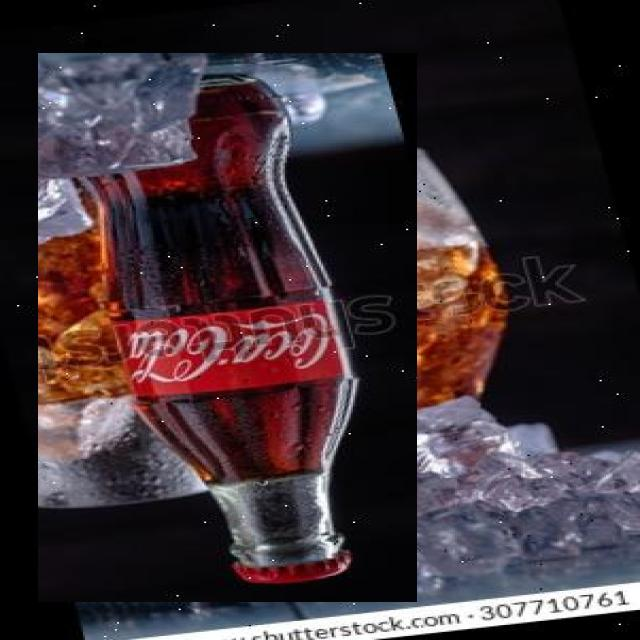coca-cola: (38, 53, 417, 602)
